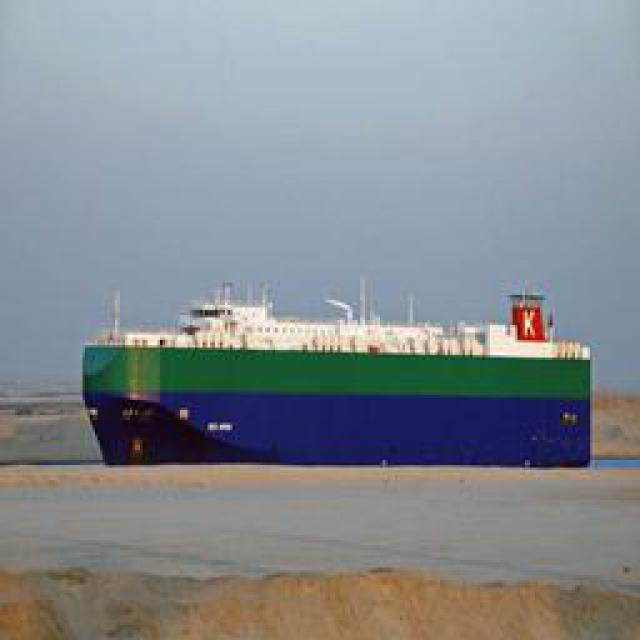Ship: (85, 266, 600, 471)
